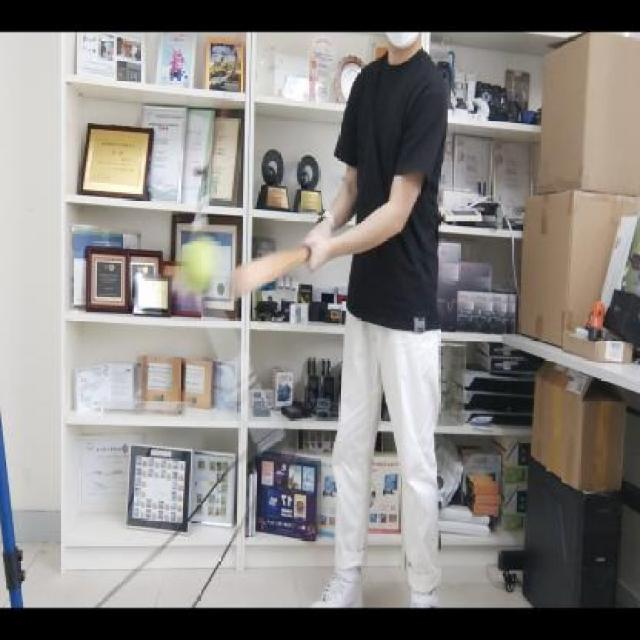baseball: (174, 235, 220, 294)
